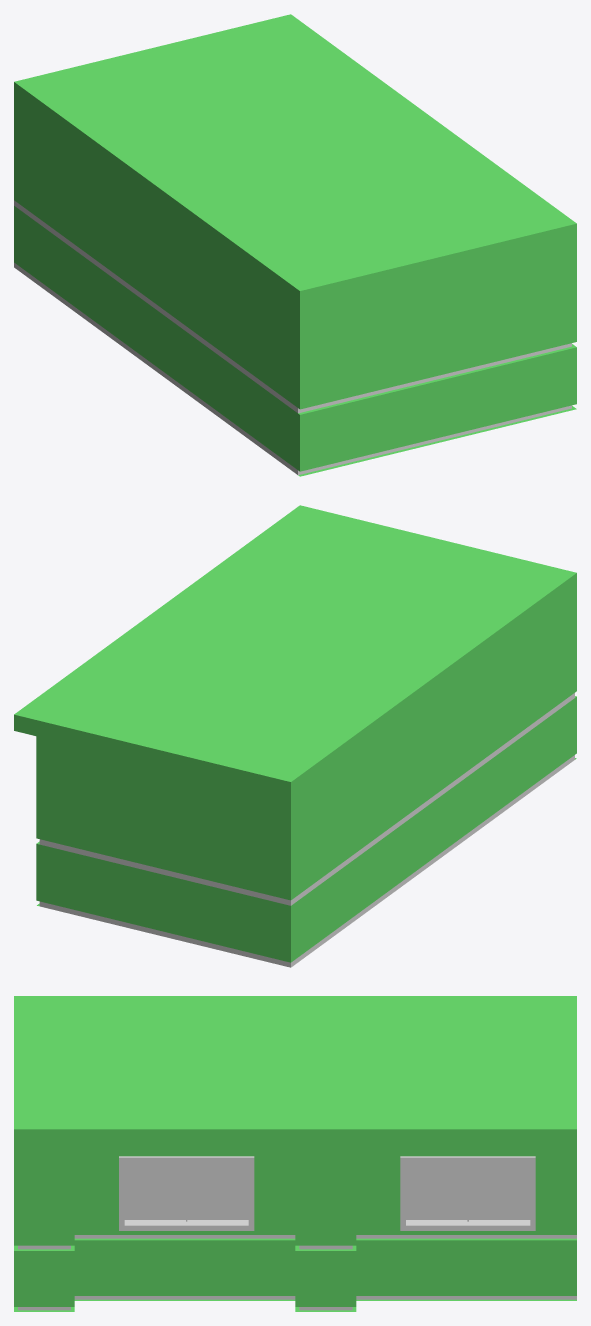
Rendered from building_left.fbx.
The picture shows the model from 3 angles, top to bottom: view 1: azimuth 30°, elevation 25°; view 2: azimuth 150°, elevation 25°; view 3: azimuth 270°, elevation 25°; orthographic projection.
Parts seen in each view (by area): view 1: room novo.003; view 2: room novo.003; view 3: room novo.003.
Part boxes in pixels (box(x1,y1,x2,y2)): room novo.003: box(14, 14, 576, 476); room novo.003: box(14, 505, 576, 967); room novo.003: box(14, 996, 576, 1311).
Size of the model in its own units: 124 by 79.31 by 222.
